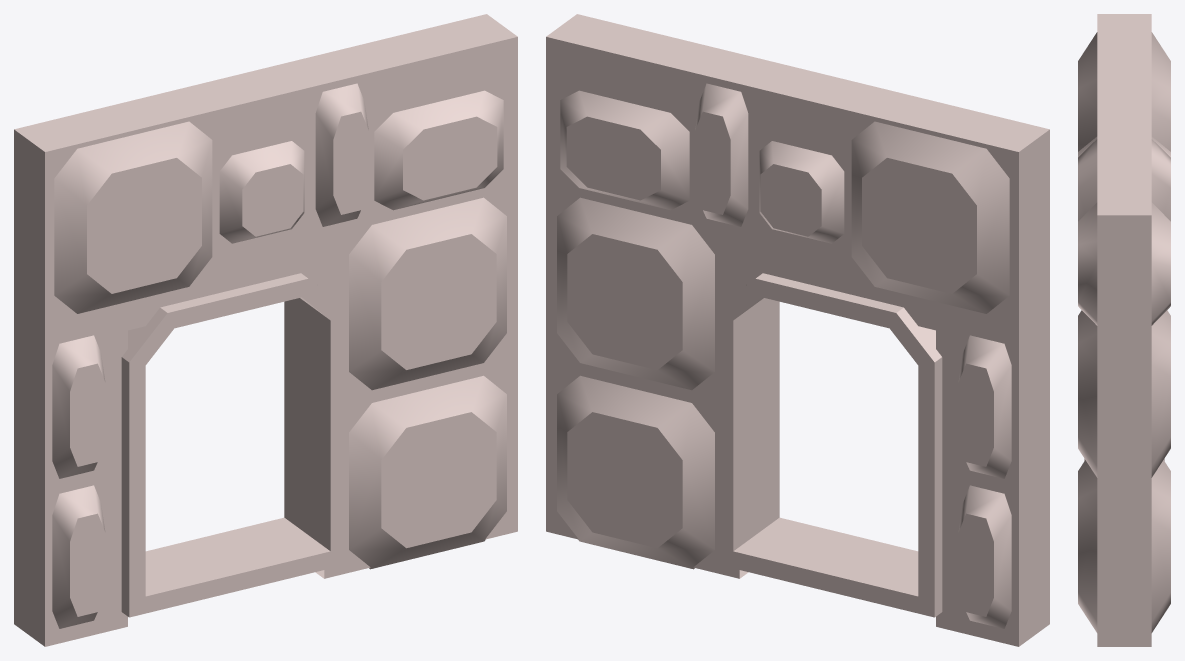
The model's file is Wall_doorway.fbx.
3 views of the same model, side by side, from view 1: azimuth 30°, elevation 25°; view 2: azimuth 150°, elevation 25°; view 3: azimuth 270°, elevation 25° (orthographic). The views are drawn at different scales.
Parts seen in each view (by area): view 1: Wall doorway; view 2: Wall doorway; view 3: Wall doorway.
Boxes of the visible parts, x1,y1,x2,y2 form: Wall doorway: [14, 14, 517, 646]; Wall doorway: [546, 14, 1049, 646]; Wall doorway: [1078, 14, 1170, 646].
Bounding box in the file's own units: 300 × 301 × 58.52.
